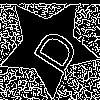D: (24, 21, 81, 76)
